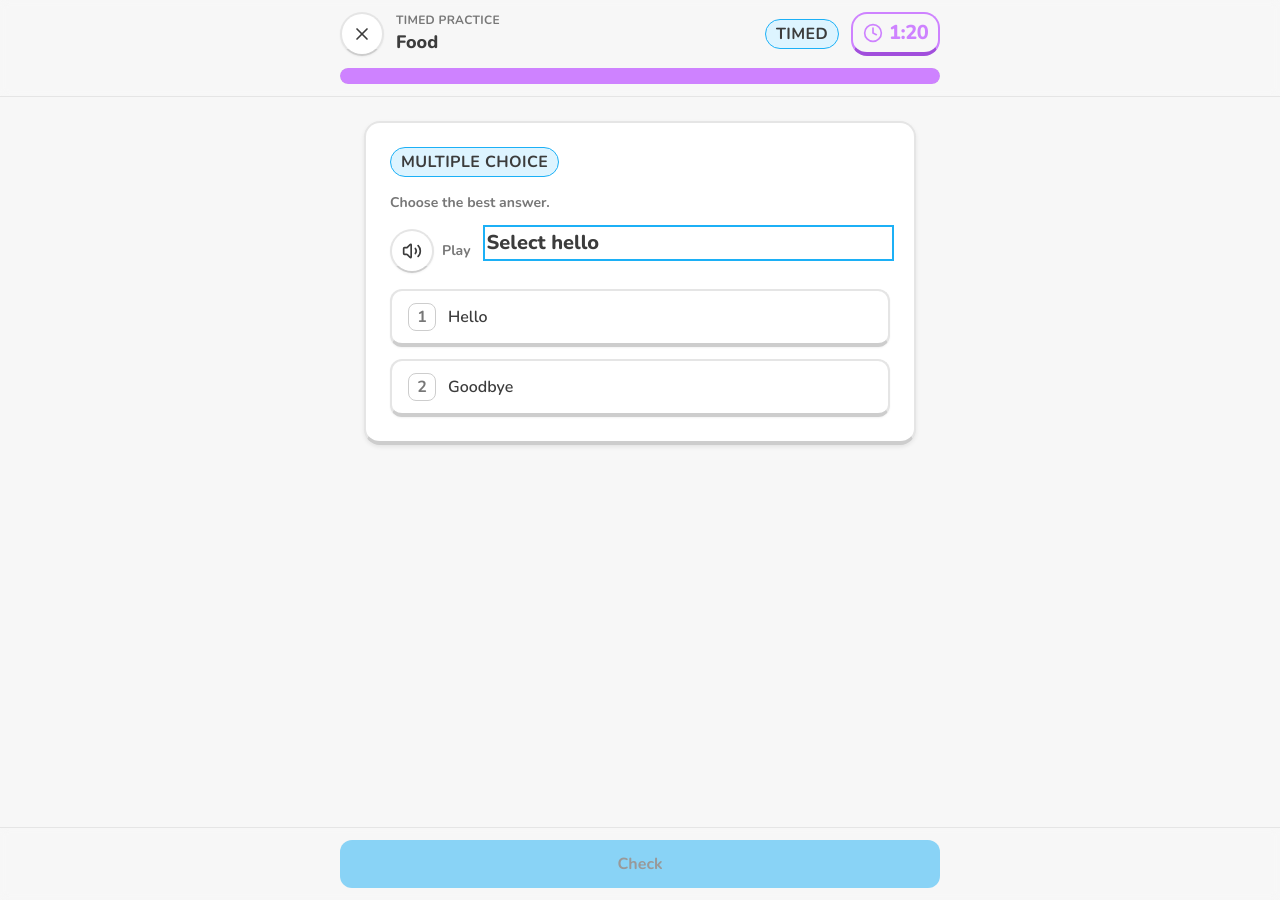
Scenario: Phase 10E Timed Practice UI › timed completion displays exact backend XP without perfect/crown/unlock
Click the radio button labelled "Hello" at (468, 317), box top-left (390, 289), bottom-right (890, 347)
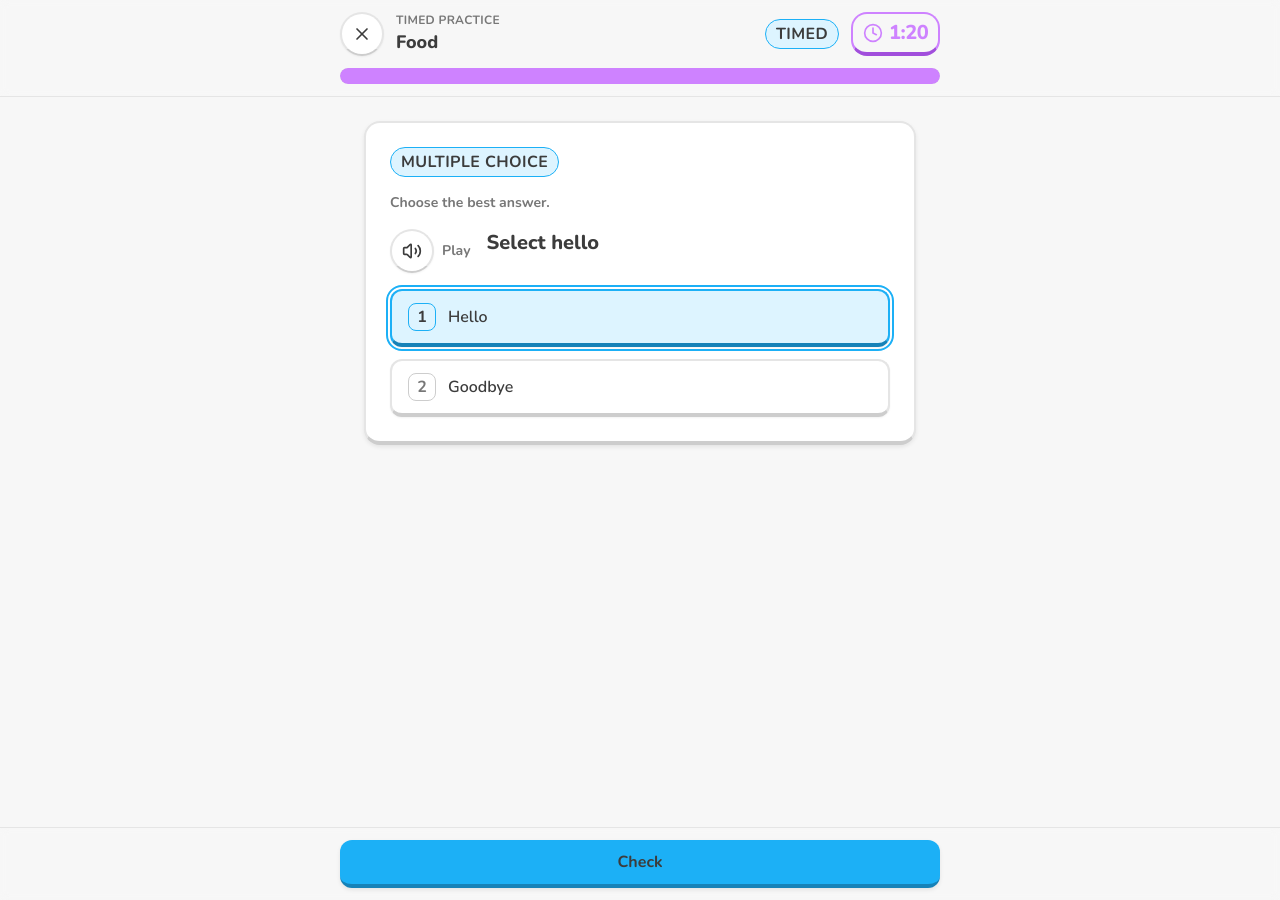
Click the button "Check" at (640, 864), box top-left (340, 840), bottom-right (940, 888)
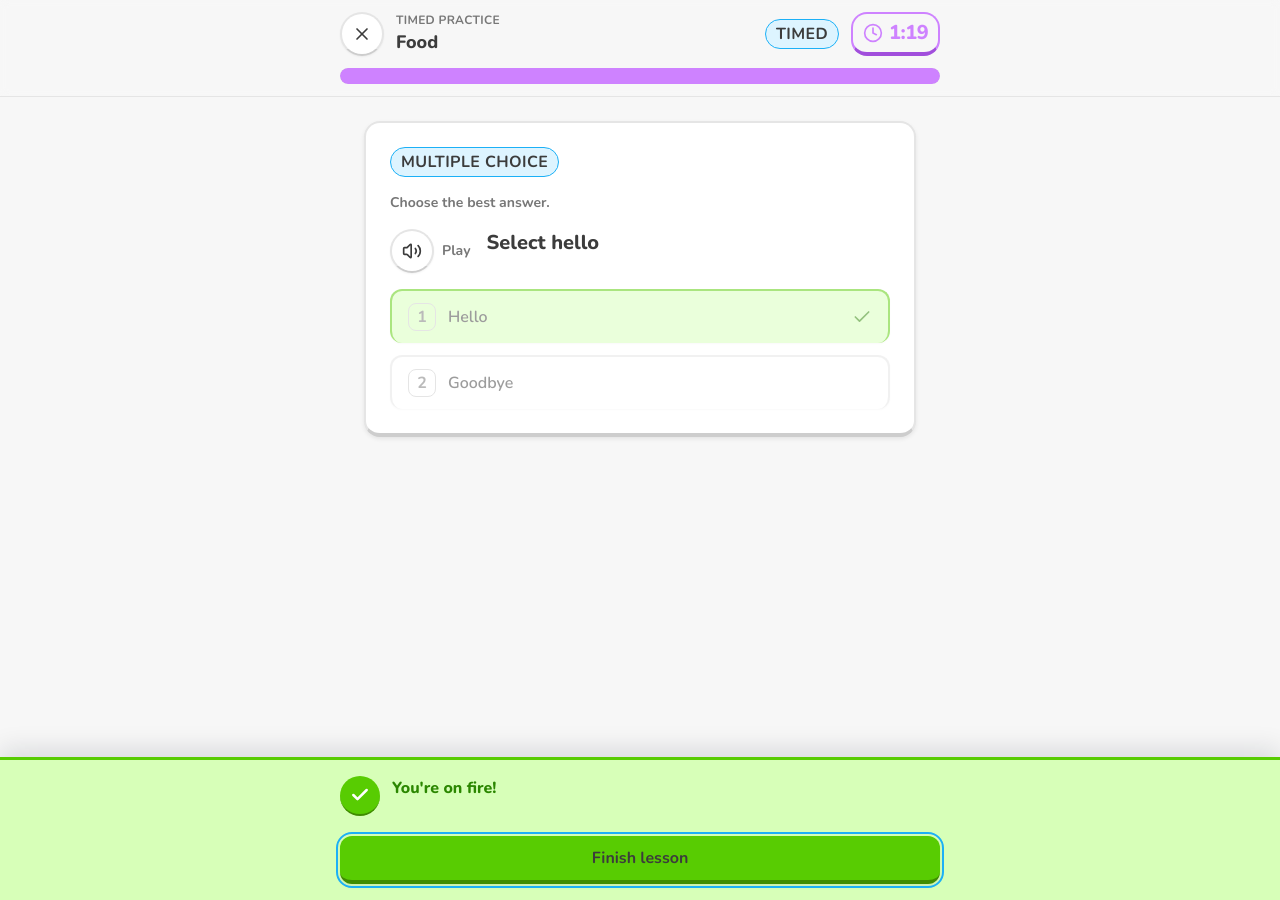
Click the button "Finish lesson" at (640, 860), box top-left (340, 836), bottom-right (940, 884)
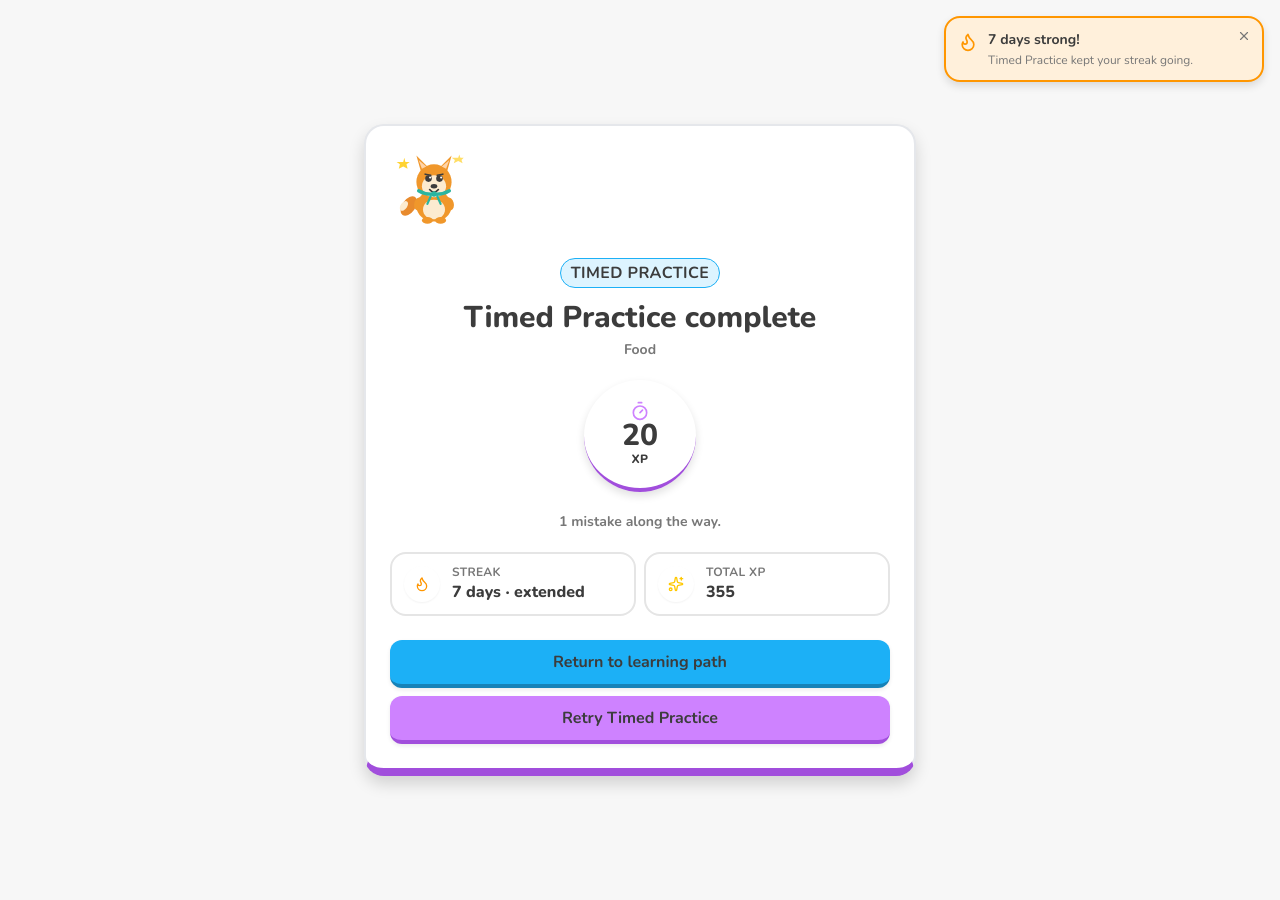
Check: the heading "Timed Practice complete" is shown, box top-left (464, 297), bottom-right (816, 338)
Check: the element named "20 XP earned" is shown, box top-left (584, 380), bottom-right (696, 492)
